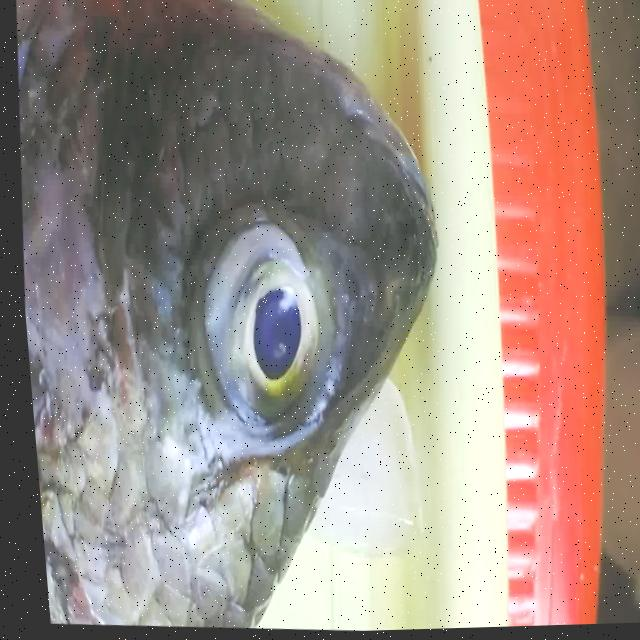Fresh: (165, 178, 364, 472)
